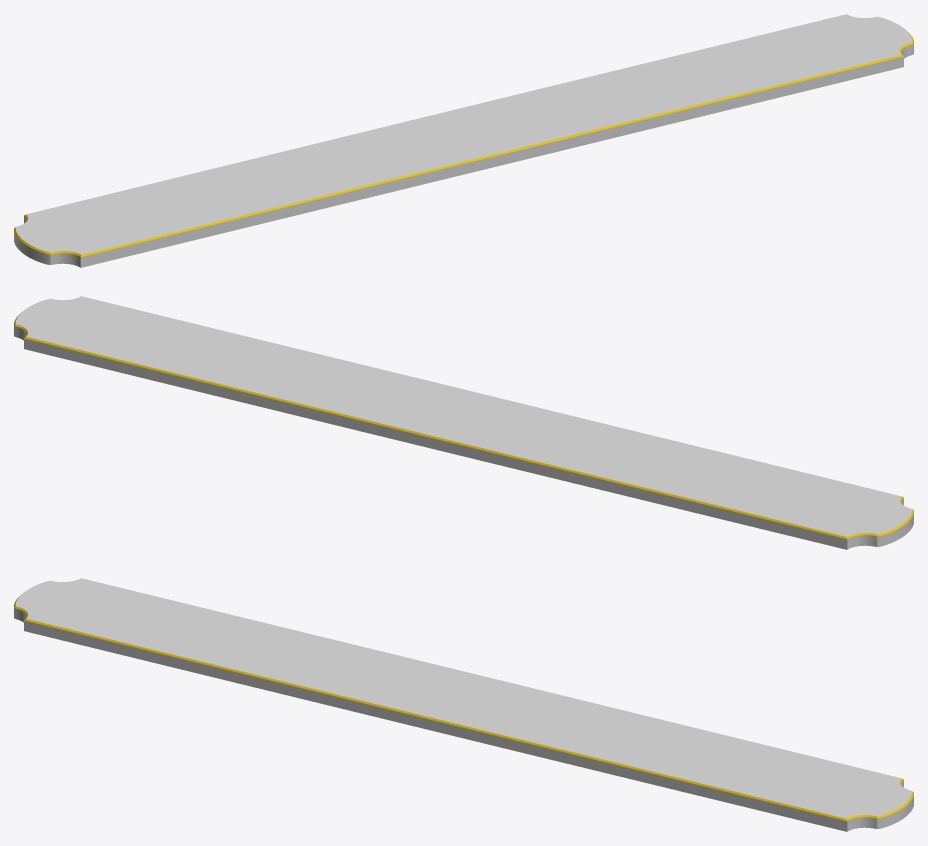
The model's file is The Original.glb.
The picture shows the model from 3 angles, top to bottom: view 1: azimuth 30°, elevation 25°; view 2: azimuth 150°, elevation 25°; view 3: azimuth 330°, elevation 25°; orthographic projection.
Visible parts, largest first — view 1: 9, BORDERS_curve_.022; view 2: 9, BORDERS_curve_.022; view 3: 9, BORDERS_curve_.022.
Boxes of the visible parts, bbox=[...] form: 9: bbox=[14, 14, 913, 267]; BORDERS_curve_.022: bbox=[14, 32, 913, 256]; 9: bbox=[14, 296, 913, 549]; BORDERS_curve_.022: bbox=[14, 314, 913, 538]; 9: bbox=[14, 578, 913, 831]; BORDERS_curve_.022: bbox=[14, 596, 913, 820].
Size of the model in its own units: 40 by 0.5281 by 4.5.
